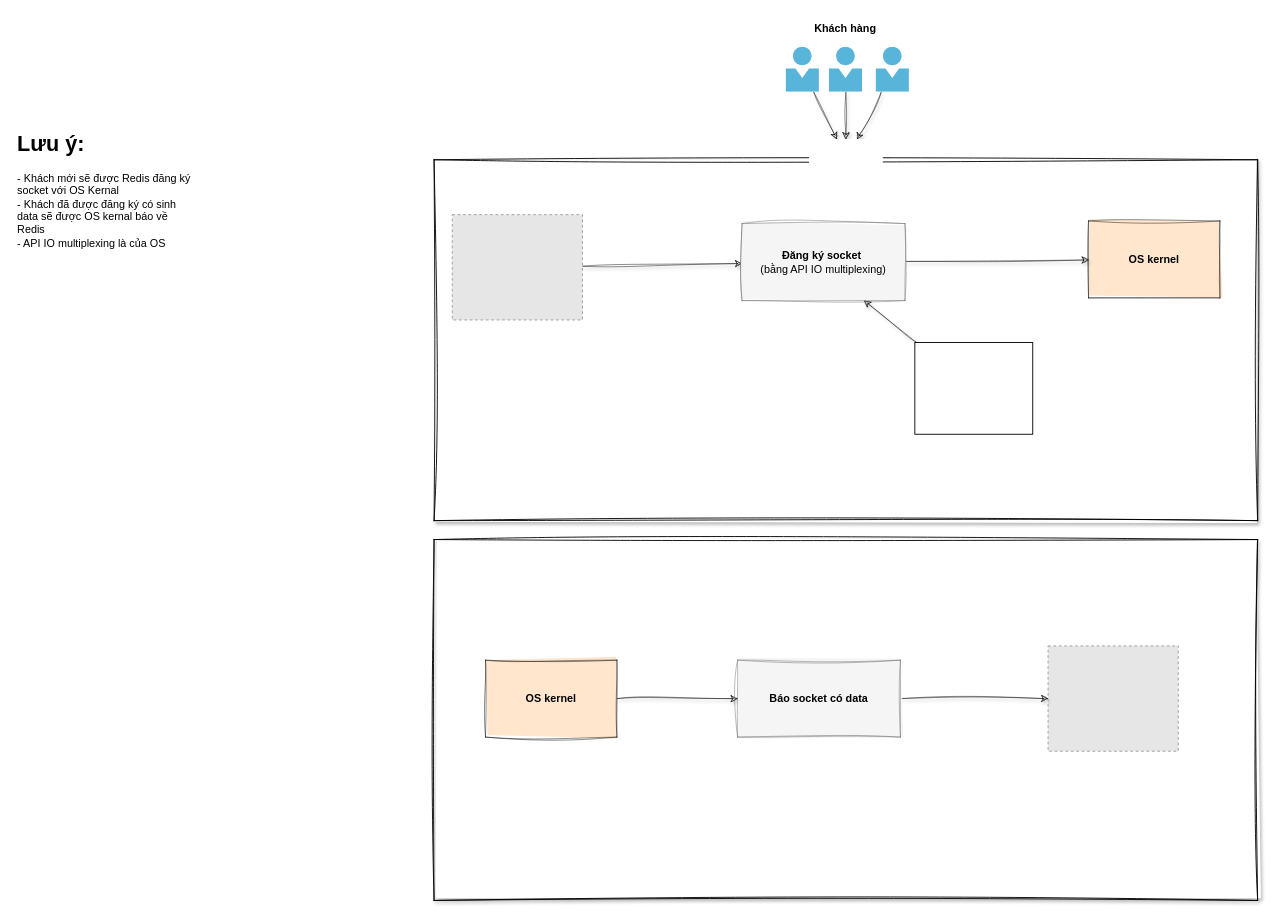
The diagram is 1279 pixels wide and 923 high, and some of its shapes have lost their labels. Grey dashed boxes stand in for pictures. The shapes that lost their labels are listed below. From the top down, each one's centre as x and y in pixels, then its label:
point 845,157: Server
point 973,388: IO multiplexing - epoll của Linux - IOCP của window
